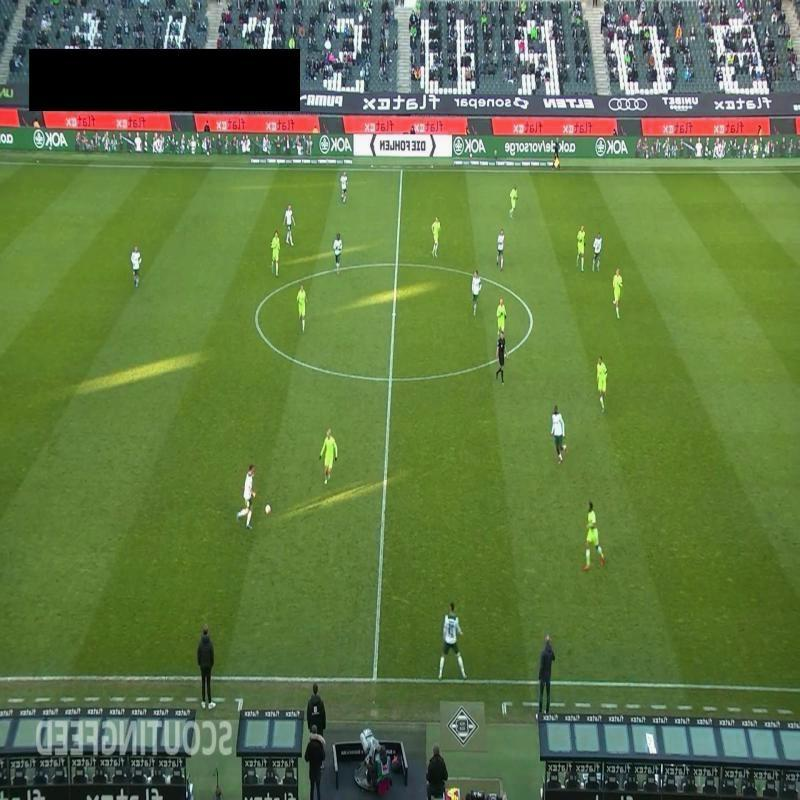13: (395, 162, 409, 176)
14: (390, 256, 404, 270)
15: (385, 371, 399, 385)
16: (370, 668, 384, 682)
c: (522, 310, 542, 328), (250, 309, 264, 323)
